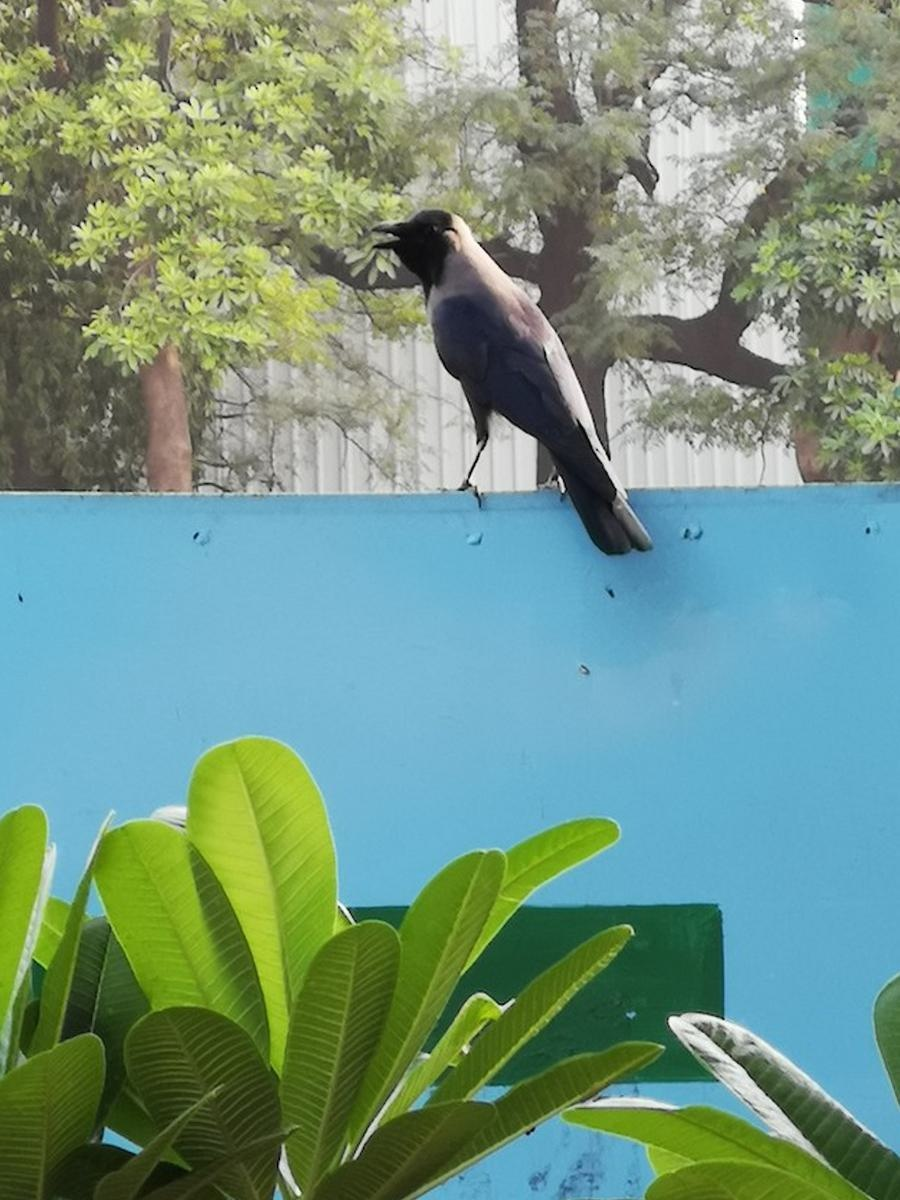crow: (371, 192, 665, 567)
